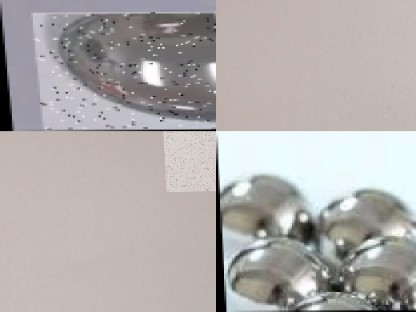ironball: (31, 12, 216, 130), (217, 164, 316, 261), (313, 178, 415, 272), (221, 238, 334, 311), (332, 235, 415, 310), (259, 290, 380, 311), (410, 279, 415, 310)
